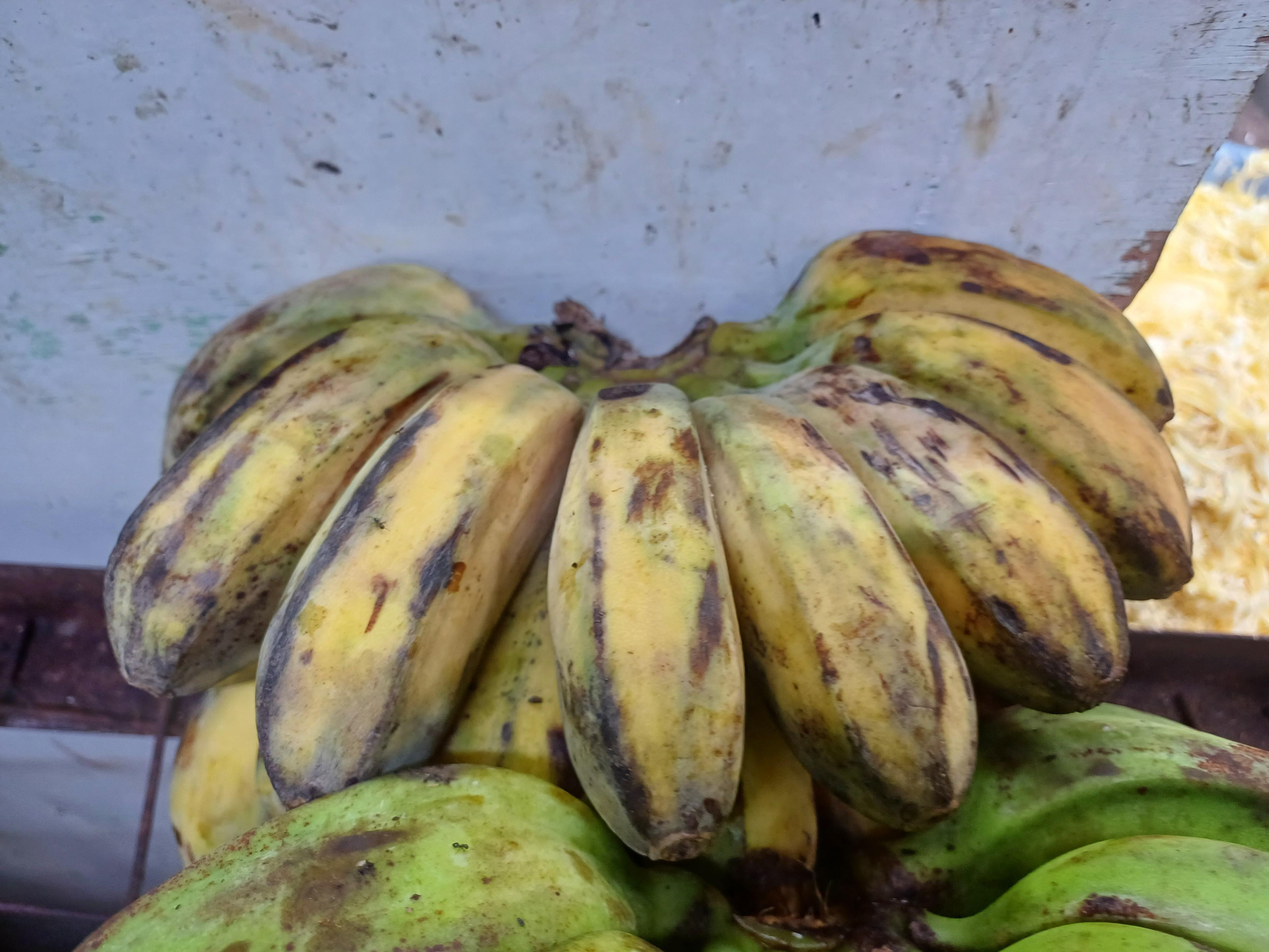underripe: (104, 231, 1192, 861)
